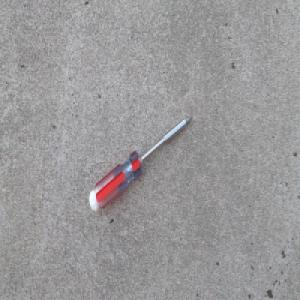Screwdriver: (88, 114, 195, 214)
